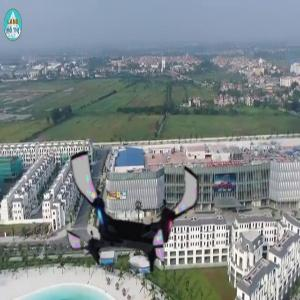drone: (62, 138, 208, 284)
